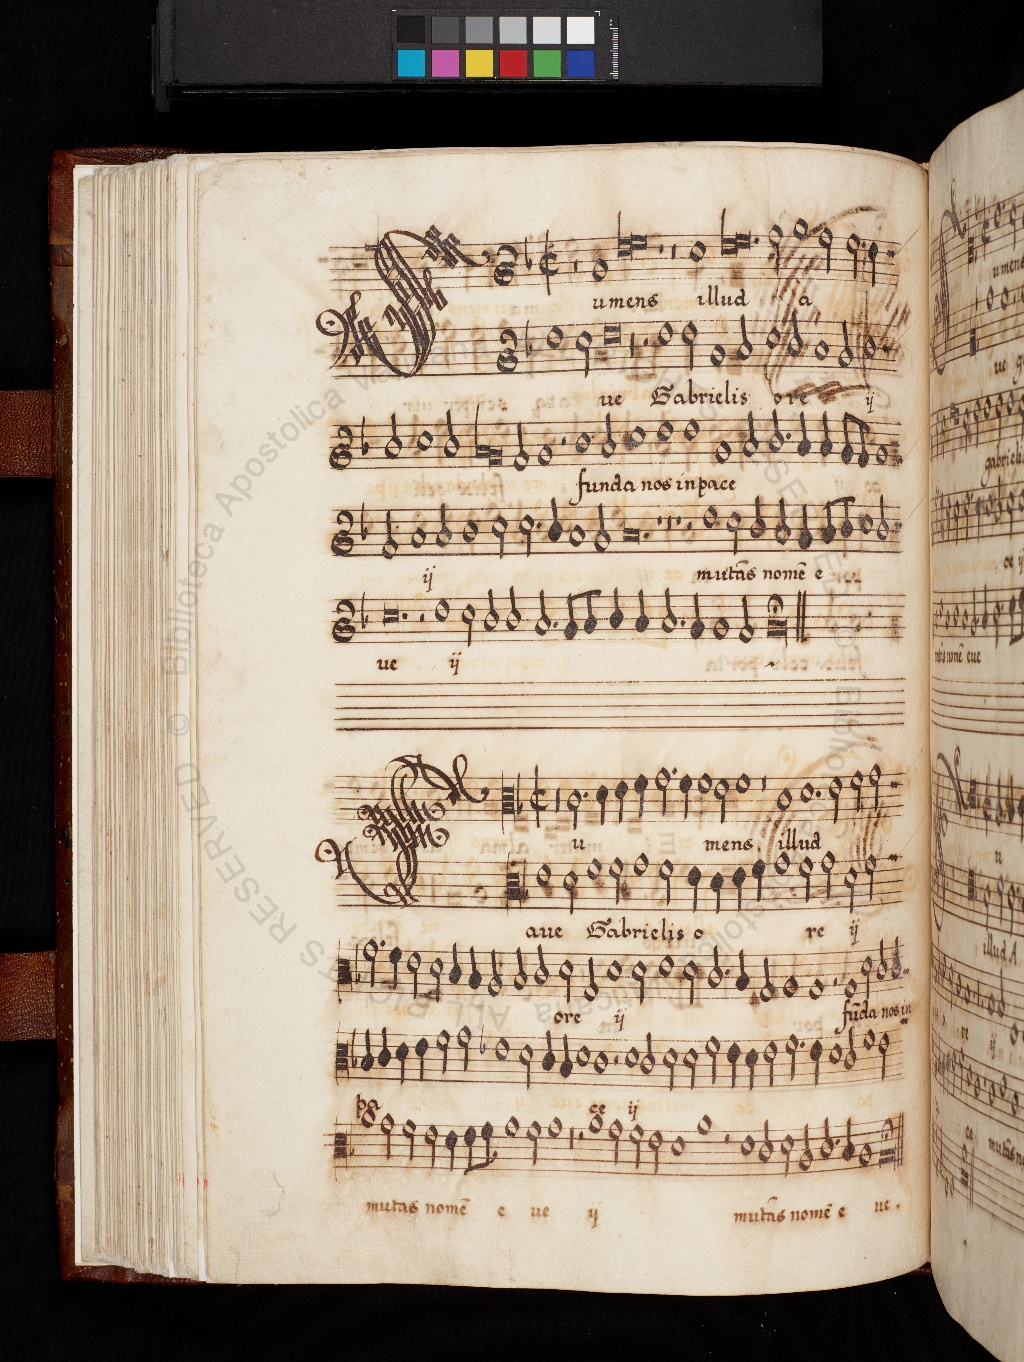Imincut: (534, 225, 567, 299)
breve rest: (666, 223, 681, 287), (567, 231, 582, 293)
custos_5: (880, 230, 911, 271)
dot: (856, 235, 869, 254)
flat_7: (518, 231, 535, 276)
g clef_9: (492, 229, 520, 300)
l1semibreve_5: (611, 202, 631, 264), (716, 202, 736, 263)
l2semibreve_4: (627, 228, 650, 256), (733, 228, 752, 255)
minim_3: (762, 217, 787, 285), (817, 218, 838, 279)
minim_4: (842, 228, 861, 286)
point: (748, 229, 763, 250), (855, 235, 869, 254)
semibreve rest: (654, 225, 667, 286)
semibreve_2: (788, 213, 815, 245)
semibreve_6: (684, 231, 710, 271)
semibreve_9: (586, 245, 613, 292)
semiminim_5: (865, 235, 881, 290)
